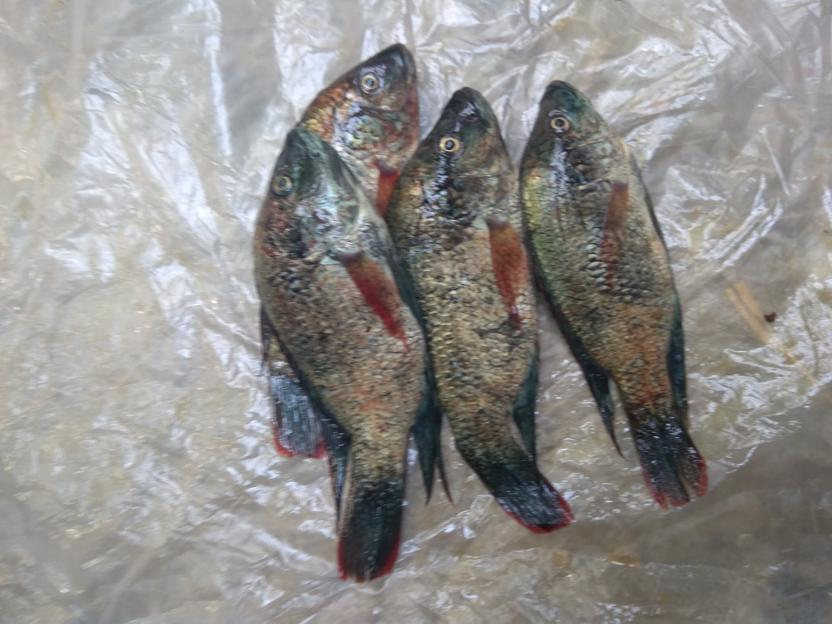Fish head: (253, 124, 365, 261), (408, 87, 519, 221), (524, 79, 622, 192), (324, 42, 419, 158)
Fish tail: (459, 441, 572, 535), (623, 403, 711, 511), (334, 456, 408, 584), (268, 364, 339, 459)
